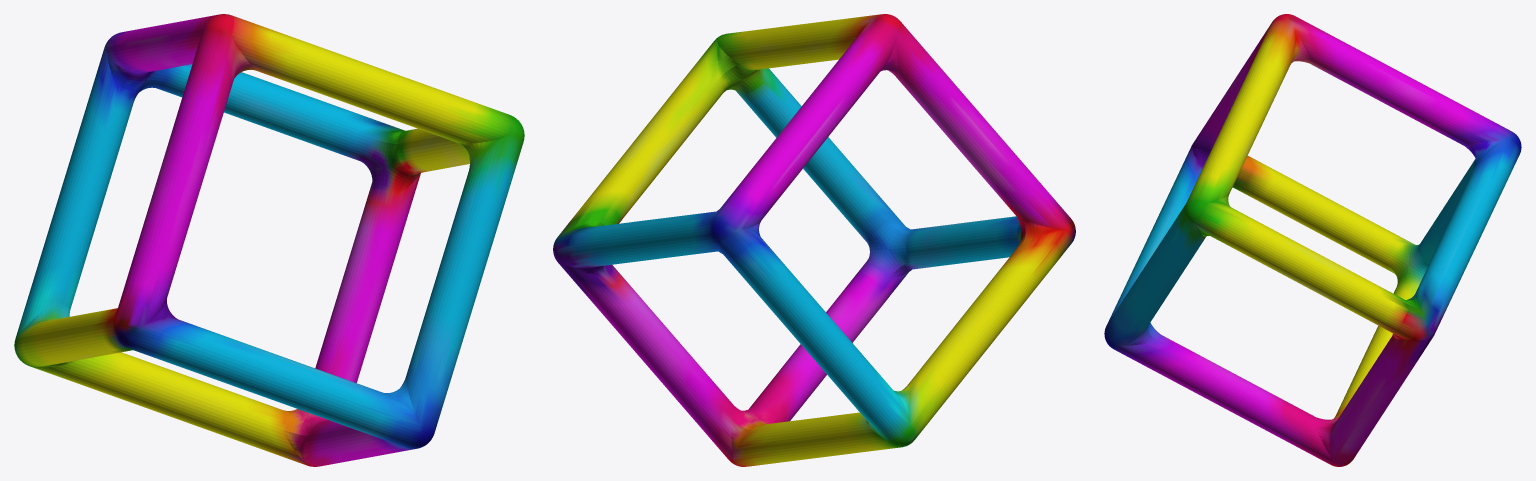
The model's file is multiculture.glb.
3 views of the same model, side by side, from view 1: azimuth 30°, elevation 25°; view 2: azimuth 150°, elevation 25°; view 3: azimuth 270°, elevation 25° (orthographic). The views are drawn at different scales.
Visible parts, largest first — view 1: Cube; view 2: Cube; view 3: Cube.
Part boxes in pixels (box(x1,y1,x2,y2)): Cube: box(14, 14, 524, 466); Cube: box(553, 14, 1075, 466); Cube: box(1104, 14, 1521, 466).
Bounding box in the file's own units: 2.88 × 3.15 × 2.96.
